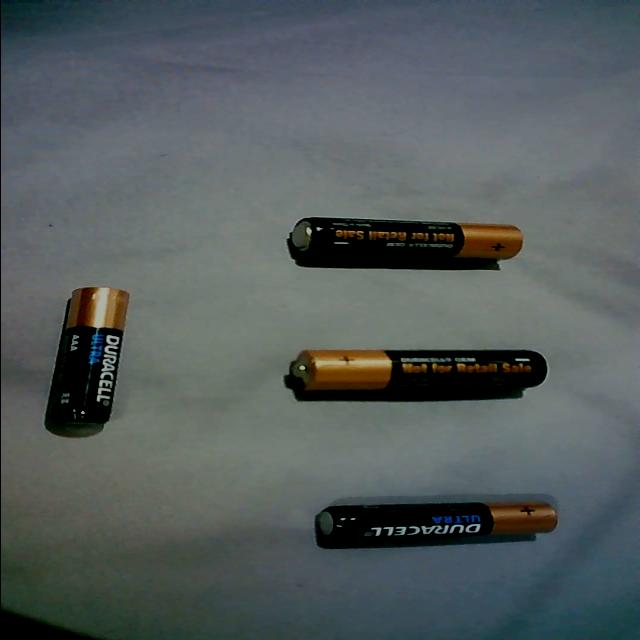AA: (287, 344, 555, 398), (282, 214, 528, 266)
AAA: (36, 284, 138, 434), (310, 497, 566, 547)
